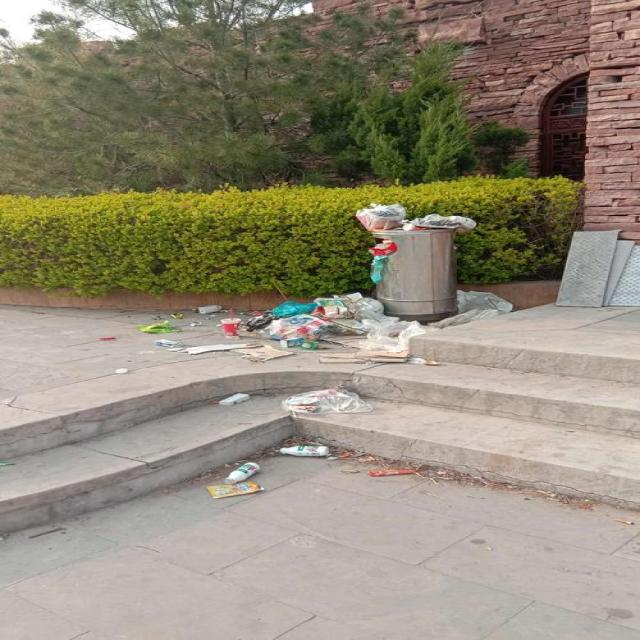garbage: (105, 291, 508, 498)
overflow: (352, 204, 474, 321)
